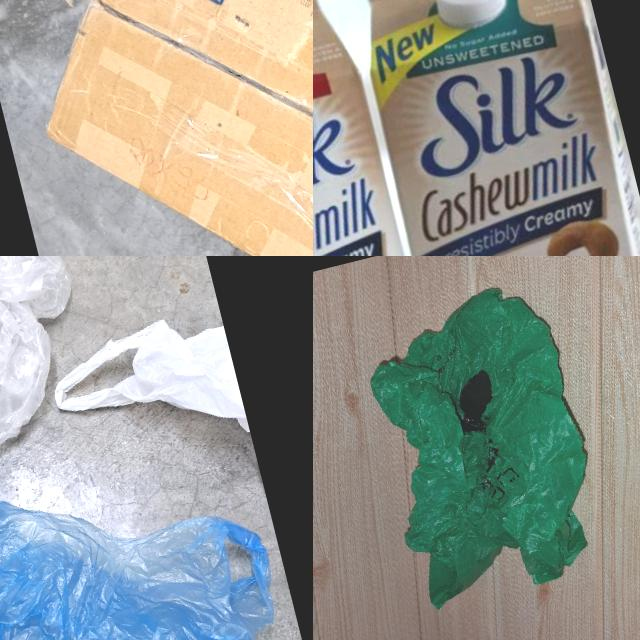caixinha: (334, 0, 640, 256), (313, 0, 465, 256)
papelão: (0, 0, 313, 256)
sacola plástica: (348, 274, 618, 614), (0, 389, 312, 640), (44, 300, 252, 479), (0, 256, 103, 499)
tampa plástica: (429, 0, 511, 34)
